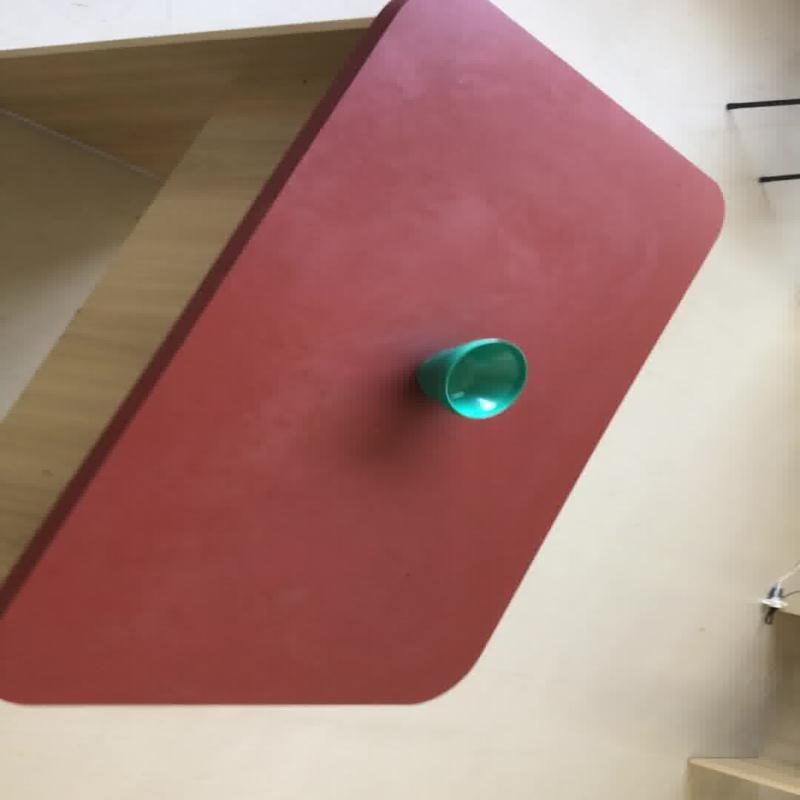bowl: (0, 0, 728, 705), (414, 336, 528, 419)
